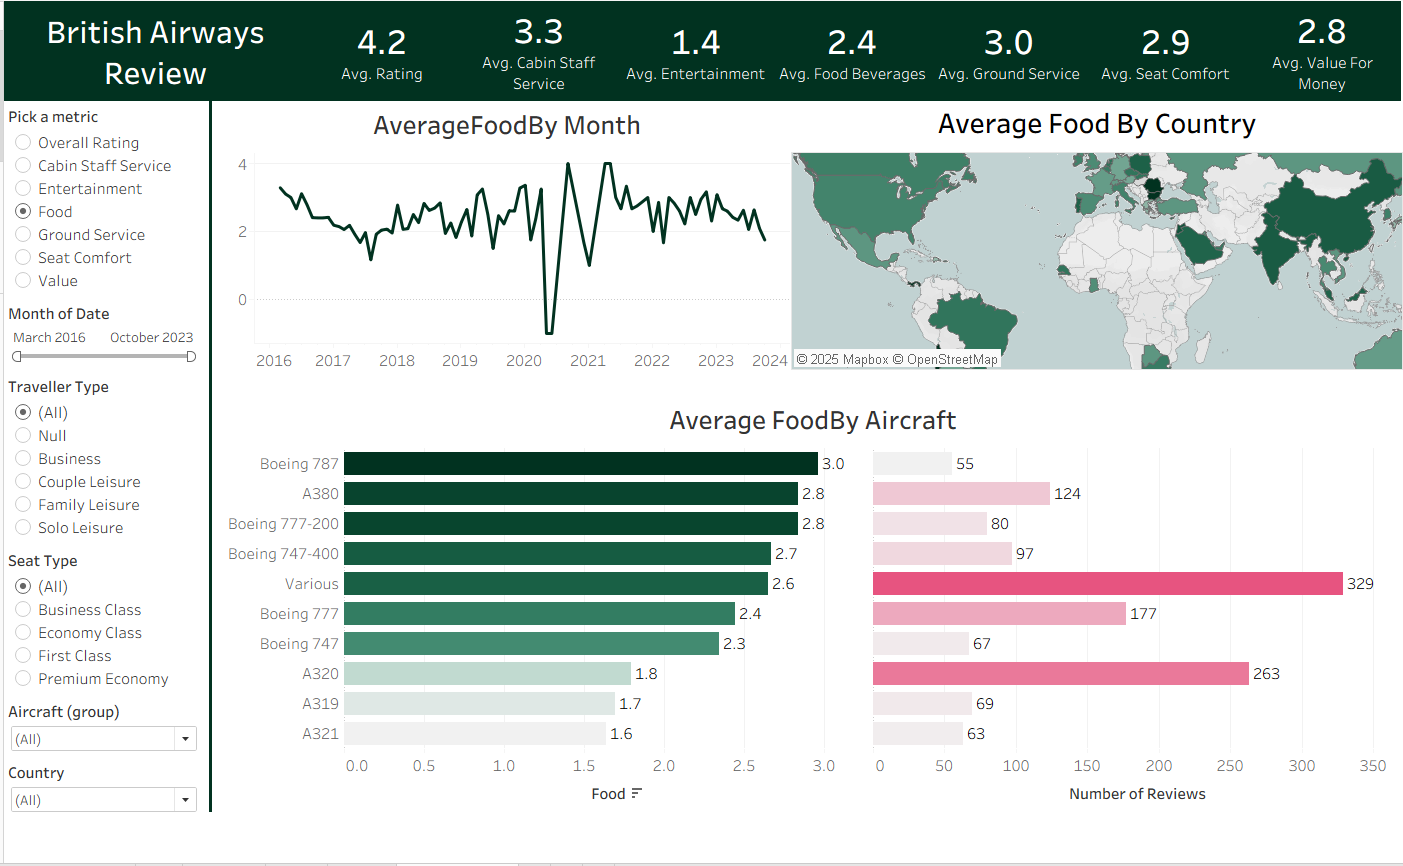

The dashboard page shown, as its layout file describes it:
{"tool":"tableau","page":{"name":"Dashboard 1","canvas":[1400,900],"ordinal":0},"visuals":[{"type":"text","box":[0,0,303,100]},{"type":"worksheet","title":"Summary","mark":"Automatic","box":[300,0,1097,100]},{"type":"blank","box":[205,98,3,713]},{"type":"worksheet","title":"Map","mark":"Automatic","box":[787,99,612,270]},{"type":"parameter","param":"[Parameters].[Parameter 1]","box":[0,101,200,197]},{"type":"worksheet","title":"Month","mark":"Automatic","rows":["Calculation_4785119874342912"],"cols":["date"],"box":[220,102,566,270]},{"type":"filter","title":"Map","param":"[federated.0qygzhb0smvkpv1en5us608by92f].[tmn:date:qk]","box":[0,298,200,73]},{"type":"filter","title":"Map","param":"[federated.0qygzhb0smvkpv1en5us608by92f].[none:traveller_type:nk]","box":[0,371,200,174]},{"type":"worksheet","title":"Aircraft","mark":"Automatic","cols":["Calculation_4785119874342912","Calculation_4785119874342912"],"box":[220,397,1178,413]},{"type":"filter","title":"Map","param":"[federated.0qygzhb0smvkpv1en5us608by92f].[none:seat_type:nk]","box":[0,545,200,151]},{"type":"filter","title":"Map","param":"[federated.0qygzhb0smvkpv1en5us608by92f].[Aircraft (group)]","box":[0,696,200,61]},{"type":"filter","title":"Map","param":"[federated.0qygzhb0smvkpv1en5us608by92f].[none:Country:nk]","box":[0,757,200,61]}]}

Visuals, with their boxes on the page's 1400x900 design canvas (x1, y1, x2, y2). These are canvas units, not pixel positions in the 1403x866 screenshot, which may show the page scaled, cropped or inside an application window:
text: <bbox>0, 0, 303, 100</bbox>
"Summary" worksheet: <bbox>300, 0, 1397, 100</bbox>
blank: <bbox>205, 98, 208, 811</bbox>
"Map" worksheet: <bbox>787, 99, 1399, 369</bbox>
parameter: <bbox>0, 101, 200, 298</bbox>
"Month" worksheet: <bbox>220, 102, 786, 372</bbox>
"Map" filter: <bbox>0, 298, 200, 371</bbox>
"Map" filter: <bbox>0, 371, 200, 545</bbox>
"Aircraft" worksheet: <bbox>220, 397, 1398, 810</bbox>
"Map" filter: <bbox>0, 545, 200, 696</bbox>
"Map" filter: <bbox>0, 696, 200, 757</bbox>
"Map" filter: <bbox>0, 757, 200, 818</bbox>
